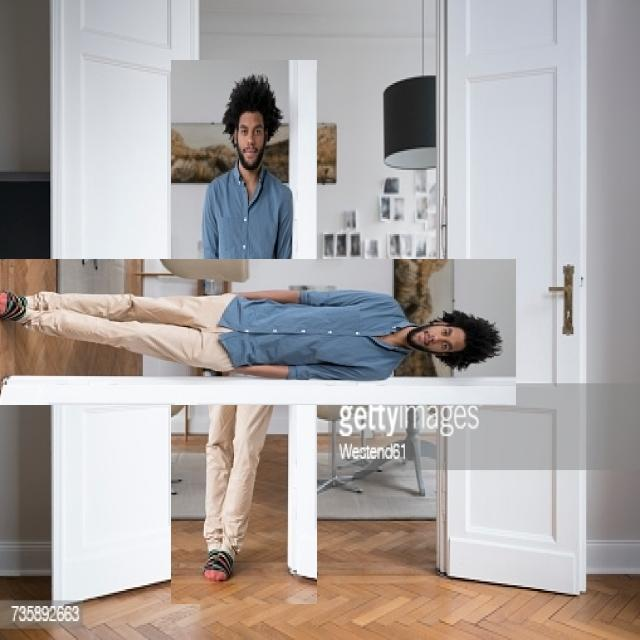NotFall: (17, 209, 523, 412)
